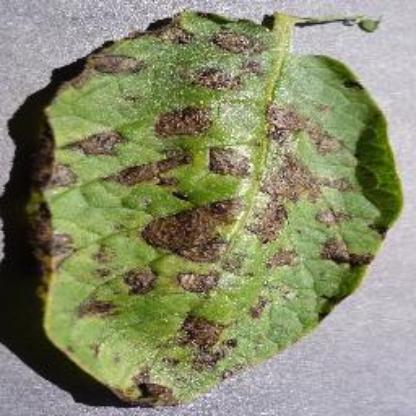Early-Blight: (23, 9, 401, 405)
